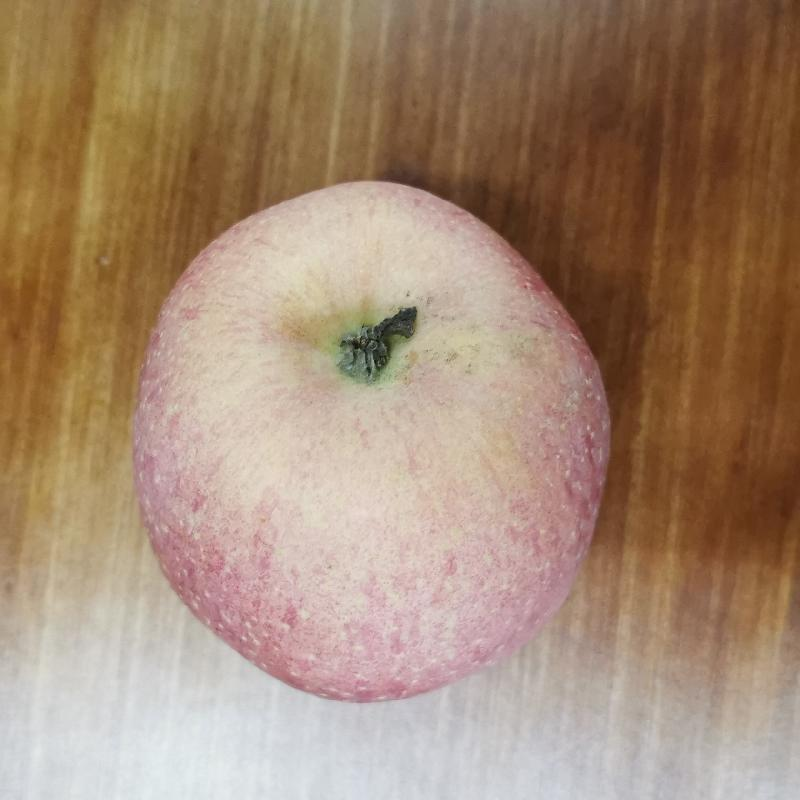apples: (134, 170, 614, 704)
